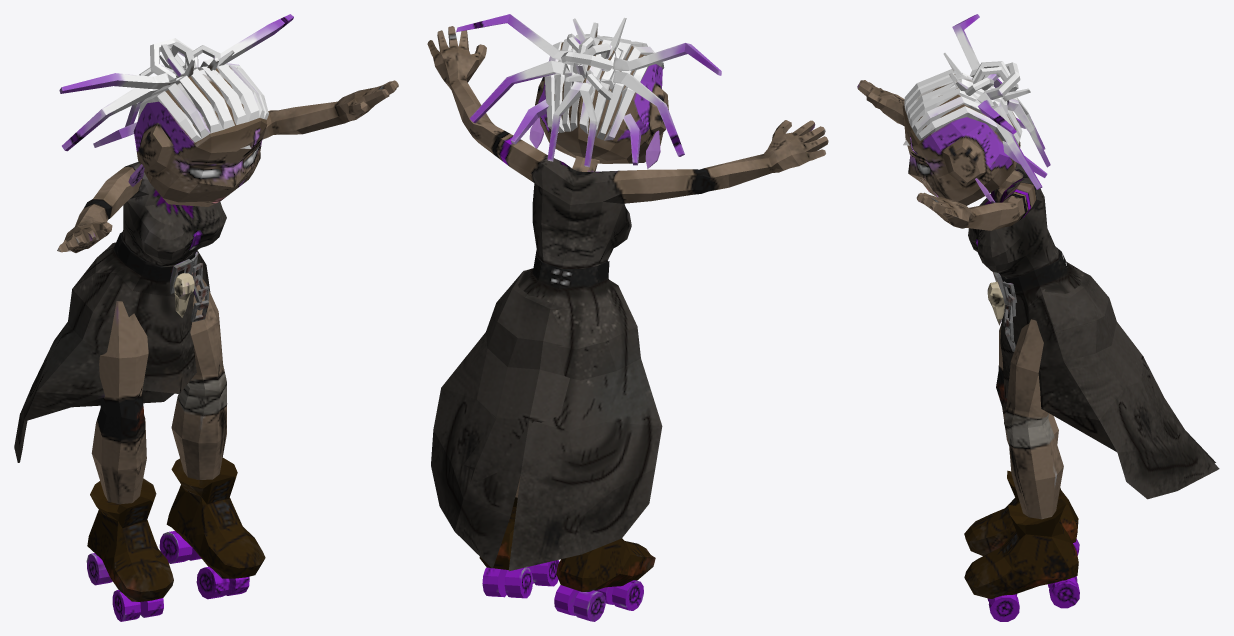
Rendered from bruja_000198.obj.
3 renders of one model, left to right at view 1: azimuth 30°, elevation 25°; view 2: azimuth 150°, elevation 25°; view 3: azimuth 270°, elevation 25°, orthographic. The views are drawn at different scales.
Visible parts, largest first — view 1: Bruja_Plane.001; view 2: Bruja_Plane.001; view 3: Bruja_Plane.001.
Part boxes in pixels (bbox=[...]): Bruja_Plane.001: bbox=[14, 14, 398, 621]; Bruja_Plane.001: bbox=[427, 14, 828, 621]; Bruja_Plane.001: bbox=[857, 14, 1219, 621].
Size of the model in its own units: 10.94 by 16.15 by 9.94.
